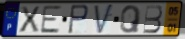B: (142, 4, 164, 34)
E: (39, 5, 63, 35)
P: (67, 4, 90, 36)
Q: (119, 4, 142, 35)
V: (93, 3, 115, 36)
X: (18, 6, 41, 34)
